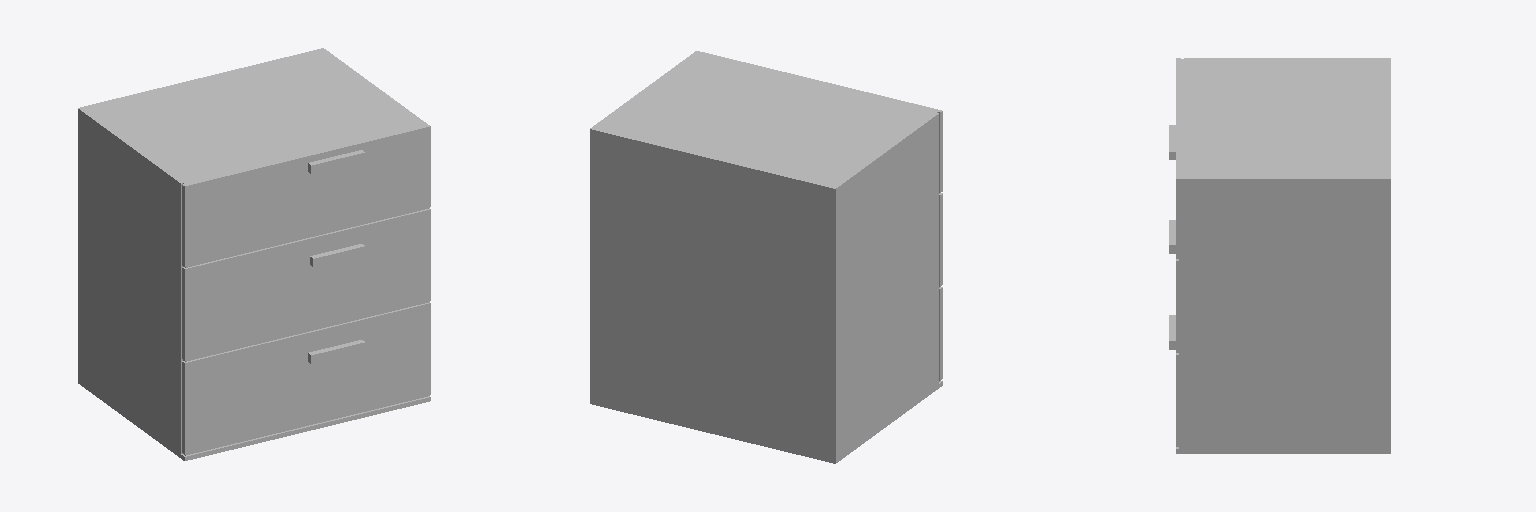
Rendered from tansu 1.obj.
3 views of the same model, side by side, from view 1: azimuth 30°, elevation 25°; view 2: azimuth 150°, elevation 25°; view 3: azimuth 270°, elevation 25° (orthographic).
Parts seen in each view (by area): view 1: object 1; view 2: object 1; view 3: object 1.
Boxes of the visible parts, <box> form: object 1: <box>78,48,430,460</box>; object 1: <box>590,51,942,463</box>; object 1: <box>1169,58,1390,453</box>.
Bounding box in the file's own units: 11.8 × 12.6 × 9.2.